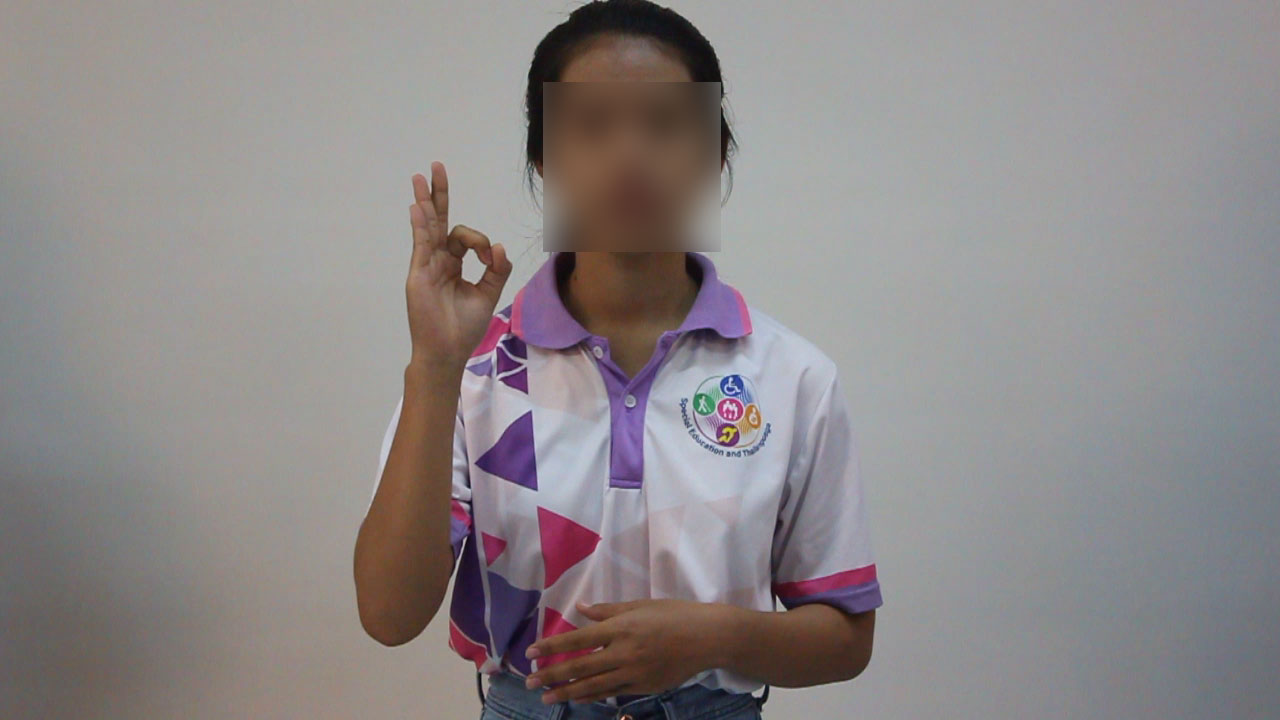for: (393, 147, 517, 375)
